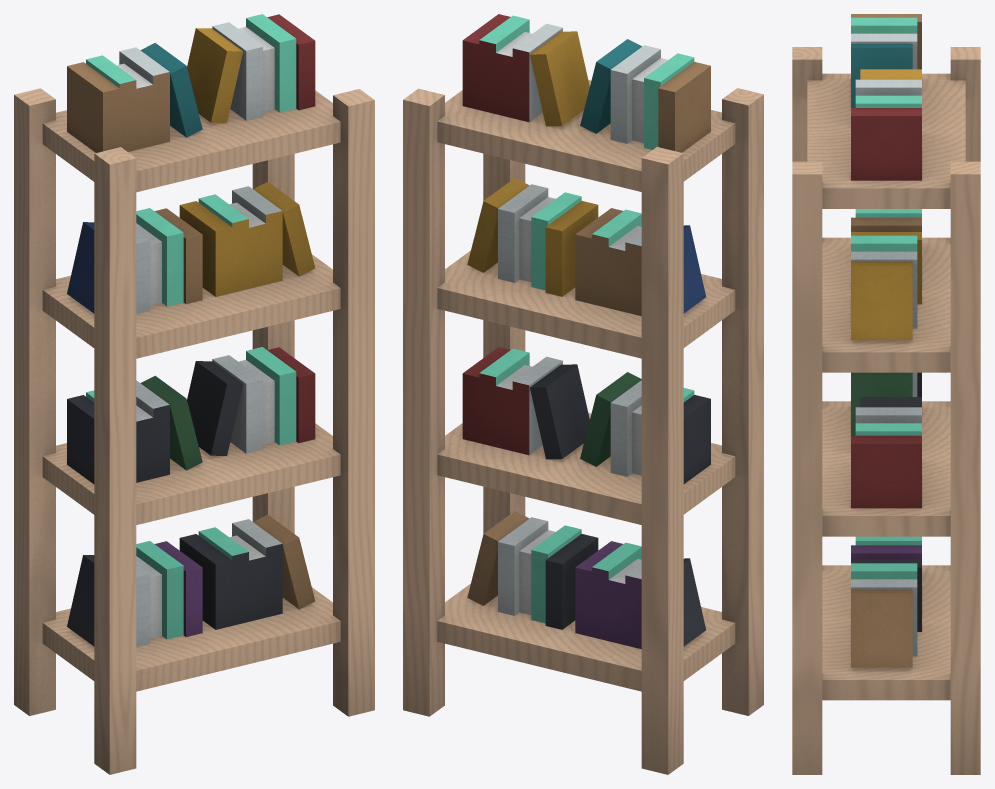
File: bookshelf.glb
3 views of the same model, side by side, from view 1: azimuth 30°, elevation 25°; view 2: azimuth 150°, elevation 25°; view 3: azimuth 270°, elevation 25° (orthographic).
Parts seen in each view (by area): view 1: bookshelf; view 2: bookshelf; view 3: bookshelf.
Part boxes in pixels (<box>): bookshelf: <box>14,14,374,774</box>; bookshelf: <box>403,14,763,774</box>; bookshelf: <box>792,14,980,774</box>.
Size of the model in its own units: 0.8 by 1.91 by 0.5.
Materials: 5 (5 with a texture image).
